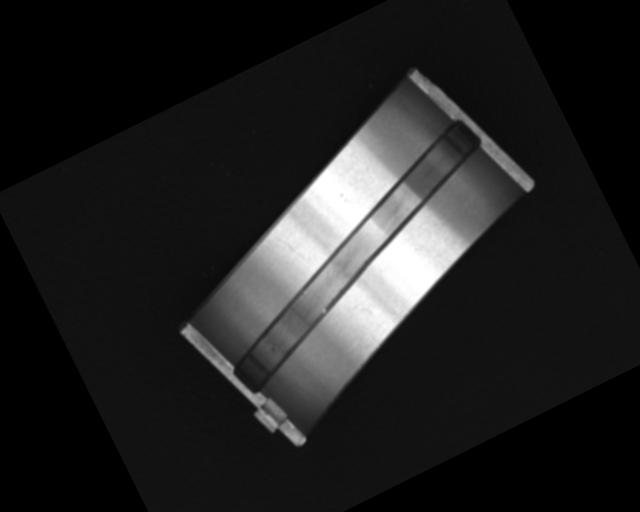gap: (177, 115, 537, 396)
nick: (275, 230, 304, 265)
